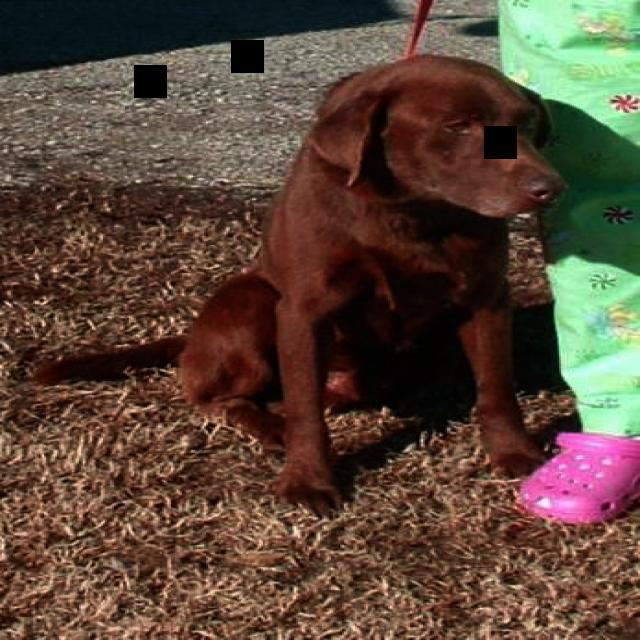adult_dog: (9, 44, 566, 517)
